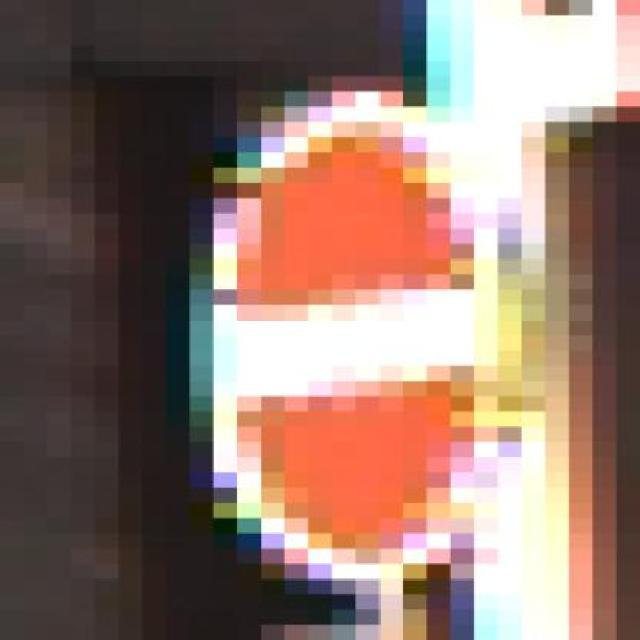B2: (213, 100, 502, 580)
